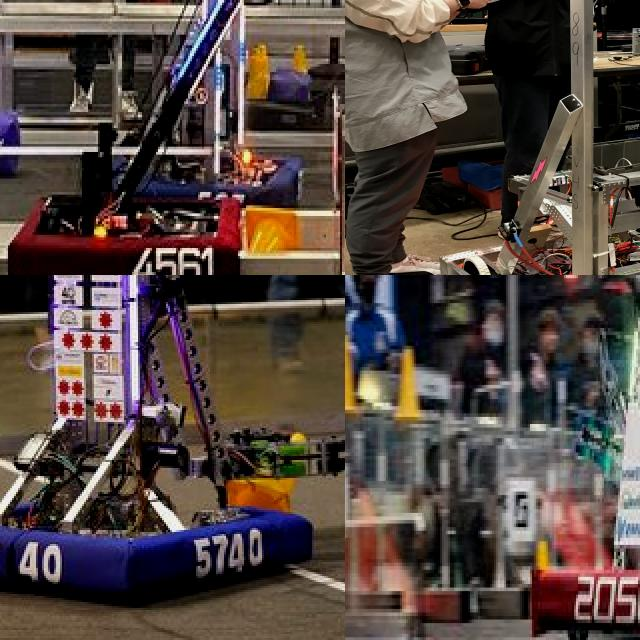FRC-Robots: (0, 275, 331, 617), (0, 0, 345, 275), (92, 0, 321, 222), (467, 0, 640, 275), (517, 275, 640, 640)
